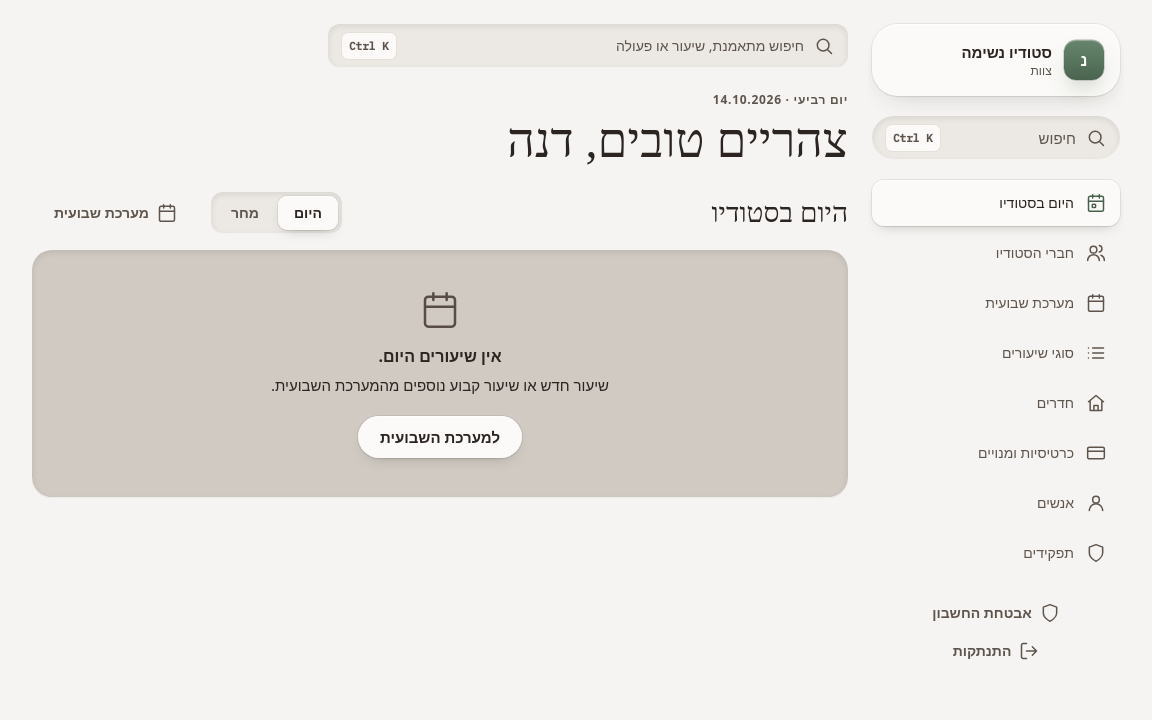
the day in the studio (D15, the coach's screen) › shows tomorrow on request
The image size is (1152, 720).
Expected: the text "אין שיעורים היום." is shown, [378,344,502,368]
Click the button "מחר". click: (245, 213)
box: [215,196,275,230]
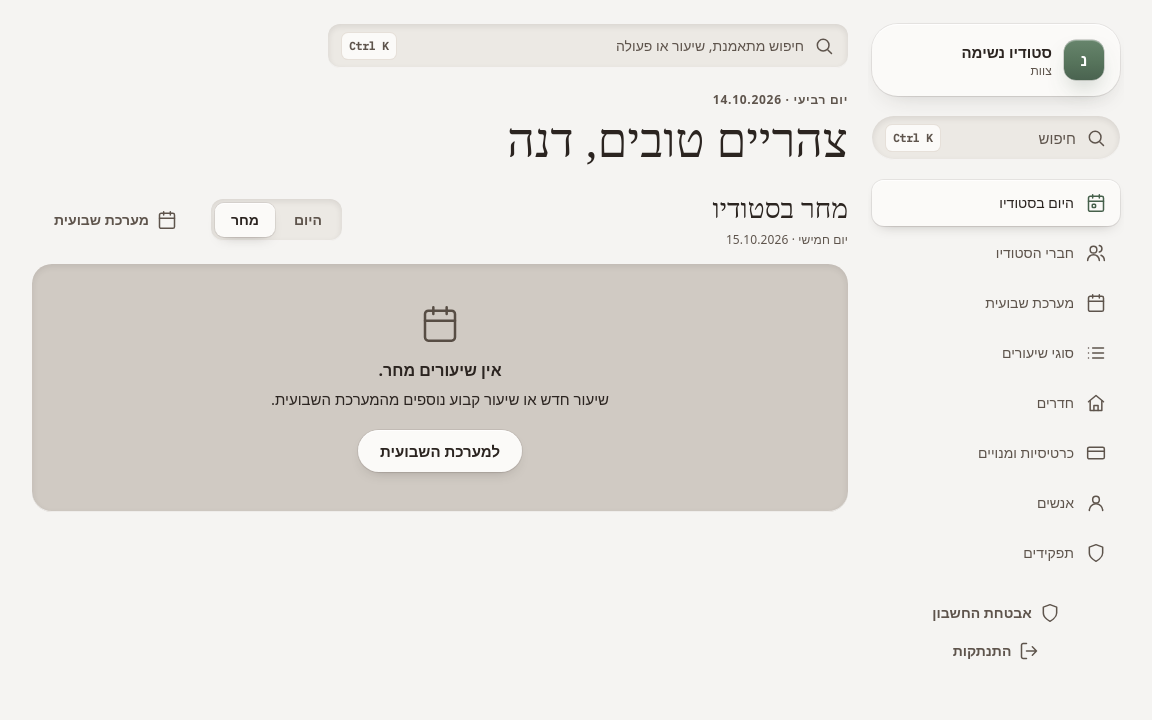
Expected: the text "אין שיעורים מחר." is shown, [378,358,502,382]
Expected: the text "יום חמישי · 15.10.2026" is shown, [713,232,848,248]
